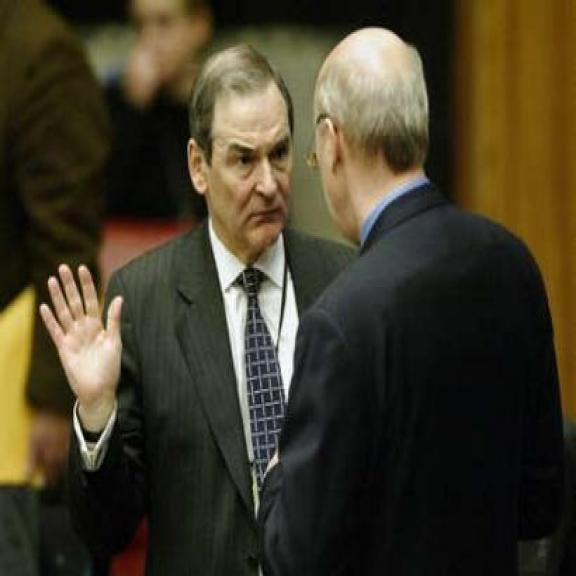face: (183, 93, 292, 250), (133, 0, 214, 82)
